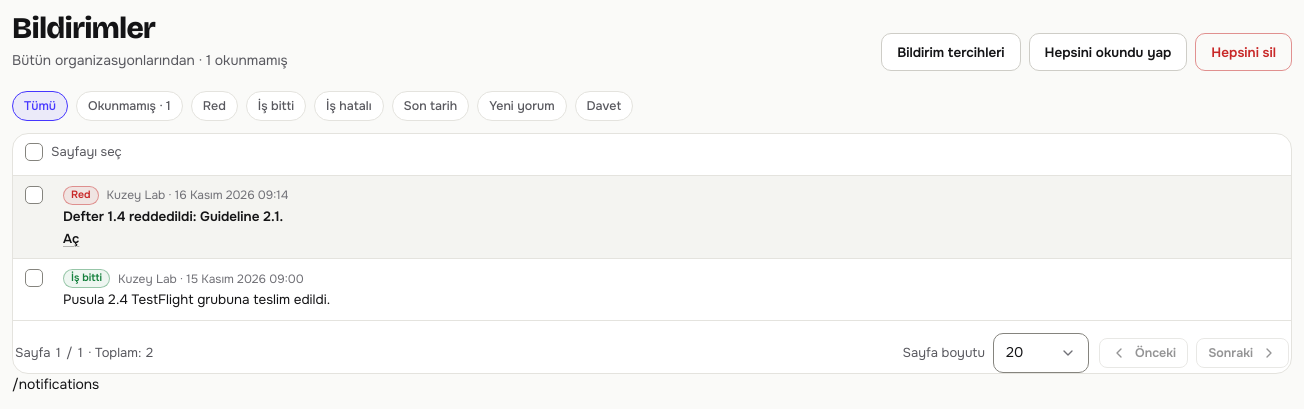
it: NotificationsPage › filters by kind and unread in the address
This screenshot has width=1304, height=409.
Check: the text "Defter 1.4 reddedildi: Guideline 2.1." is shown, box [63,208,283,225]
Click the button "İş bitti" at (276, 106), box [246,91,306,121]
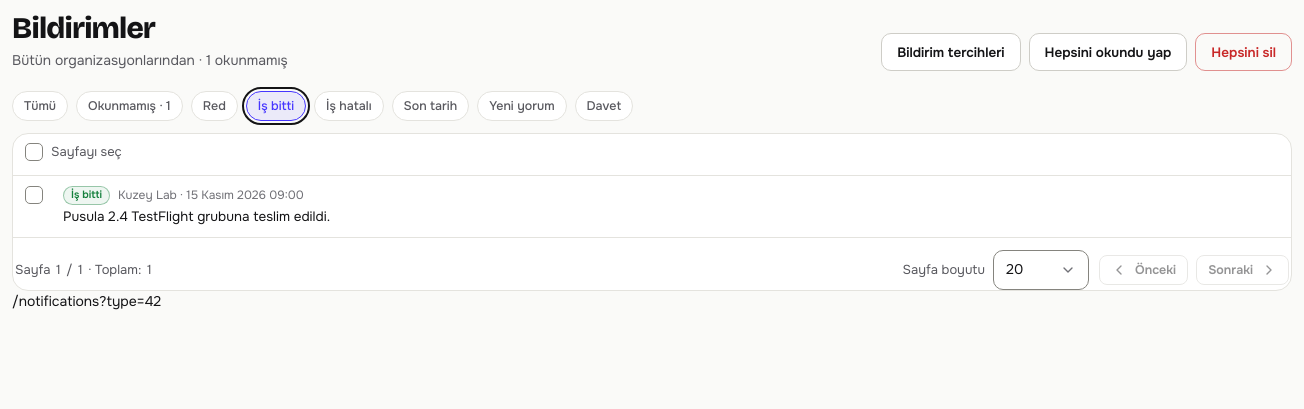
Check: the text "Defter 1.4 reddedildi: Guideline 2.1." is gone
Click the button "Okunmamış · 1" at (129, 106), box [76,91,183,121]
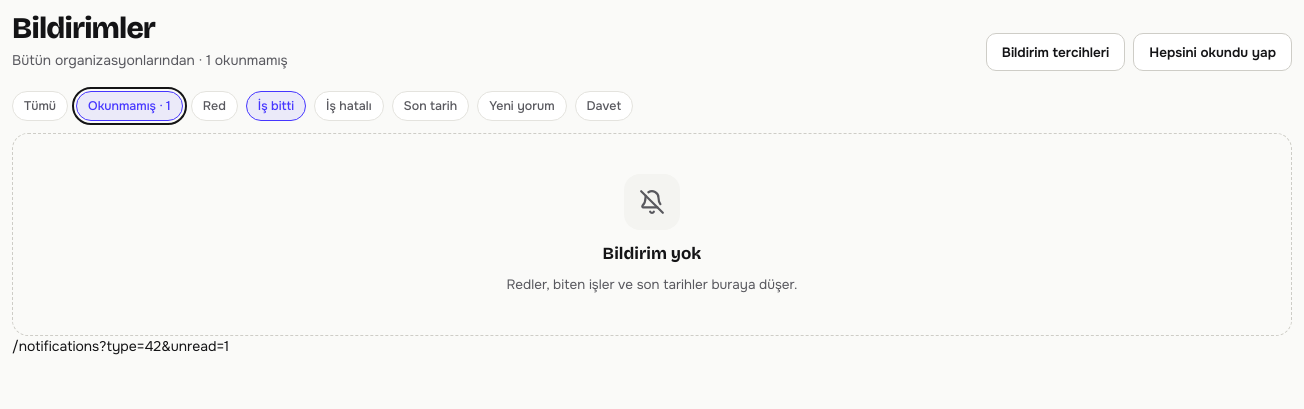
Check: the text with test id "location" shows "type=42", box [12,337,229,355]
Check: the text with test id "location" shows "unread=1", box [12,337,229,355]
